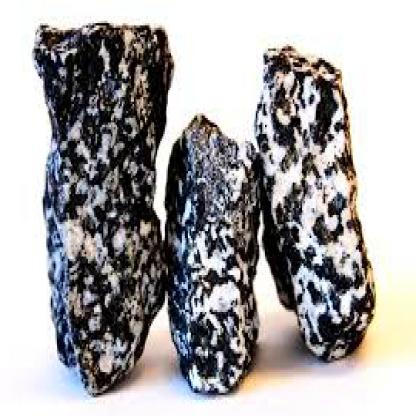Igneous_Diorite: (34, 14, 180, 393), (256, 32, 377, 368), (158, 108, 263, 406)
